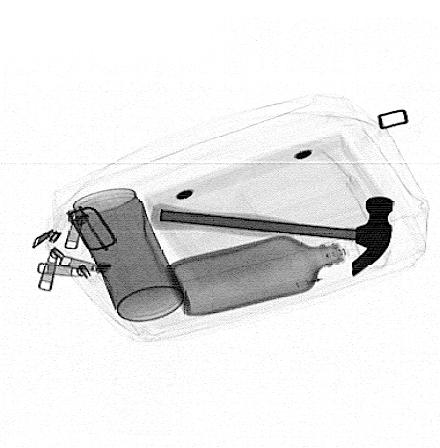Hammer: (151, 195, 393, 276)
